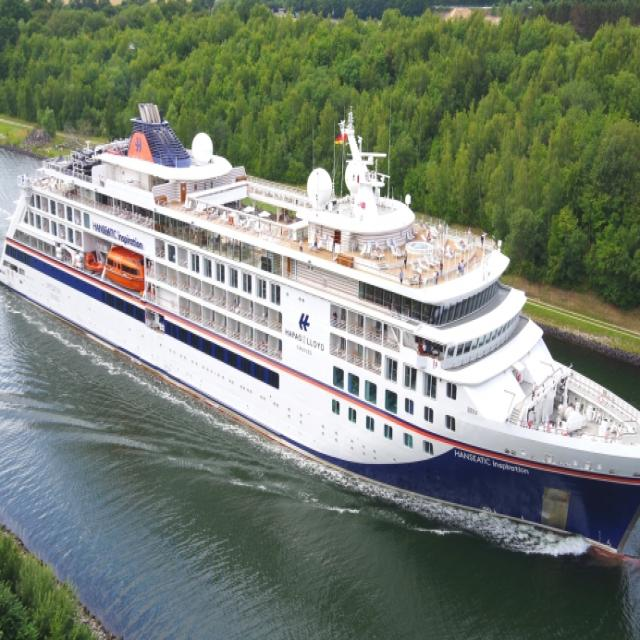cruises: (1, 99, 640, 567)
